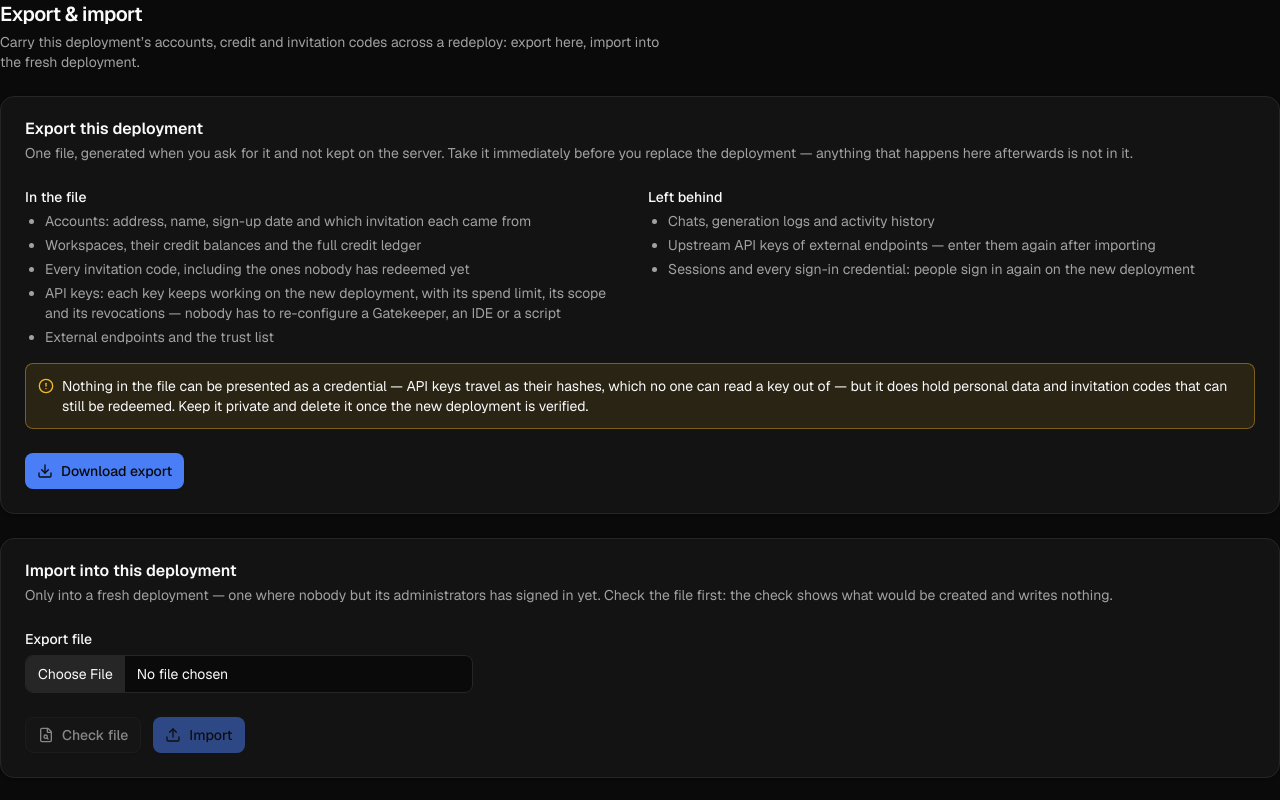
Test: DataMigrationScreen › downloads the export with the session cookie and shows the hash to compare
Click the button with test id "export-button".
click(105, 471)  # box [25,453,184,489]
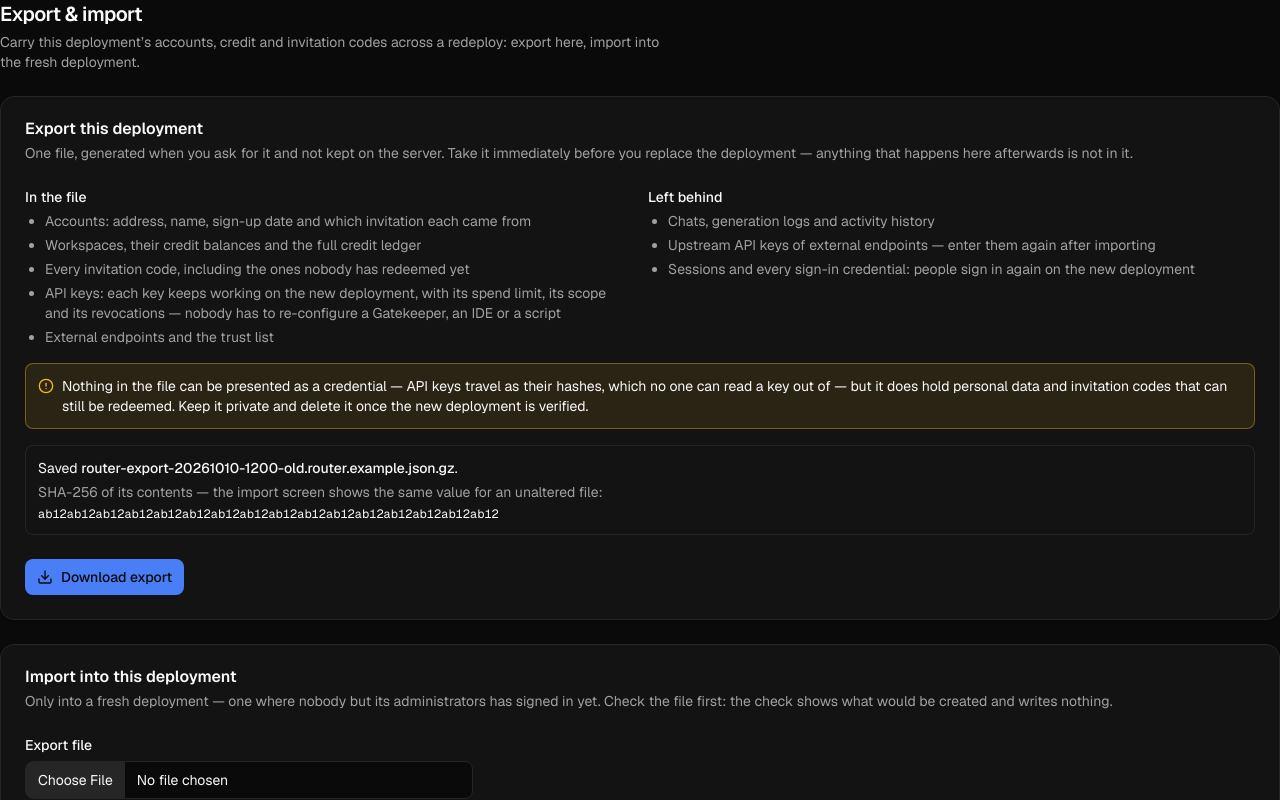
Now the element with test id "export-done" shows "router-export-20261010-1200-old.router.example.json.gz", box [81,459,455,477]
